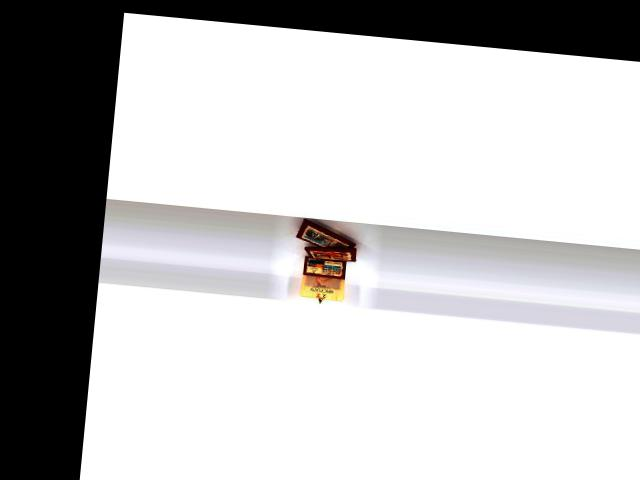chocolate: (282, 212, 361, 254)
